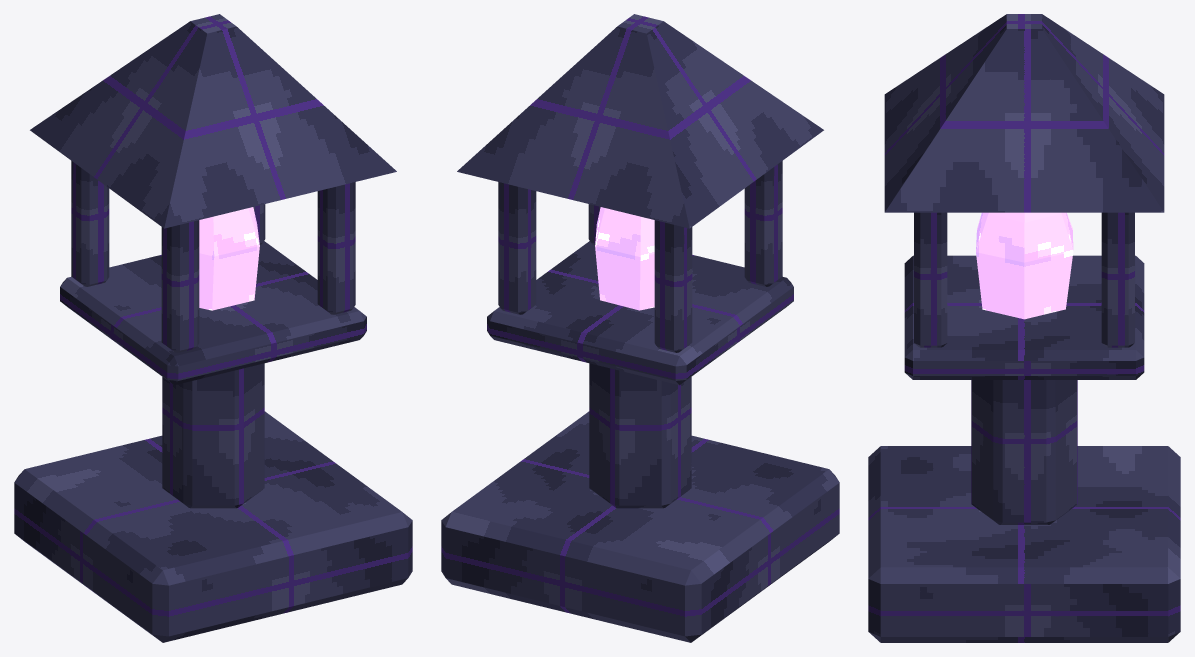
File: psy_lamp.glb
3 views of the same model, side by side, from view 1: azimuth 30°, elevation 25°; view 2: azimuth 150°, elevation 25°; view 3: azimuth 270°, elevation 25° (orthographic). The views are drawn at different scales.
Visible parts, largest first — view 1: Base, Roof, Floor, Stem, Flame, Post, Post.002, Post.001; view 2: Base, Roof, Floor, Stem, Flame, Post.001, Post.003, Post; view 3: Base, Roof, Floor, Stem, Flame, Post.002, Post.003.
Boxes of the visible parts, bbox=[...] form: Base: bbox=[14, 411, 412, 642]; Roof: bbox=[30, 14, 396, 228]; Floor: bbox=[60, 241, 366, 385]; Stem: bbox=[162, 363, 264, 508]; Flame: bbox=[199, 207, 259, 310]; Post: bbox=[161, 220, 199, 352]; Post.002: bbox=[317, 182, 355, 314]; Post.001: bbox=[71, 161, 109, 286]; Base: bbox=[441, 411, 839, 642]; Roof: bbox=[457, 14, 823, 228]; Floor: bbox=[487, 241, 793, 385]; Stem: bbox=[589, 363, 691, 508]; Flame: bbox=[595, 207, 654, 310]; Post.001: bbox=[654, 220, 692, 352]; Post.003: bbox=[498, 182, 536, 314]; Post: bbox=[744, 161, 782, 286]; Base: bbox=[868, 446, 1180, 642]; Roof: bbox=[884, 14, 1164, 212]; Floor: bbox=[904, 255, 1144, 379]; Stem: bbox=[971, 380, 1077, 524]; Flame: bbox=[976, 212, 1073, 319]; Post.002: bbox=[914, 212, 947, 347]; Post.003: bbox=[1101, 212, 1134, 347].
Bounding box in the file's own units: 1.5 × 2.97 × 1.5.
2 materials, 2 textured.
